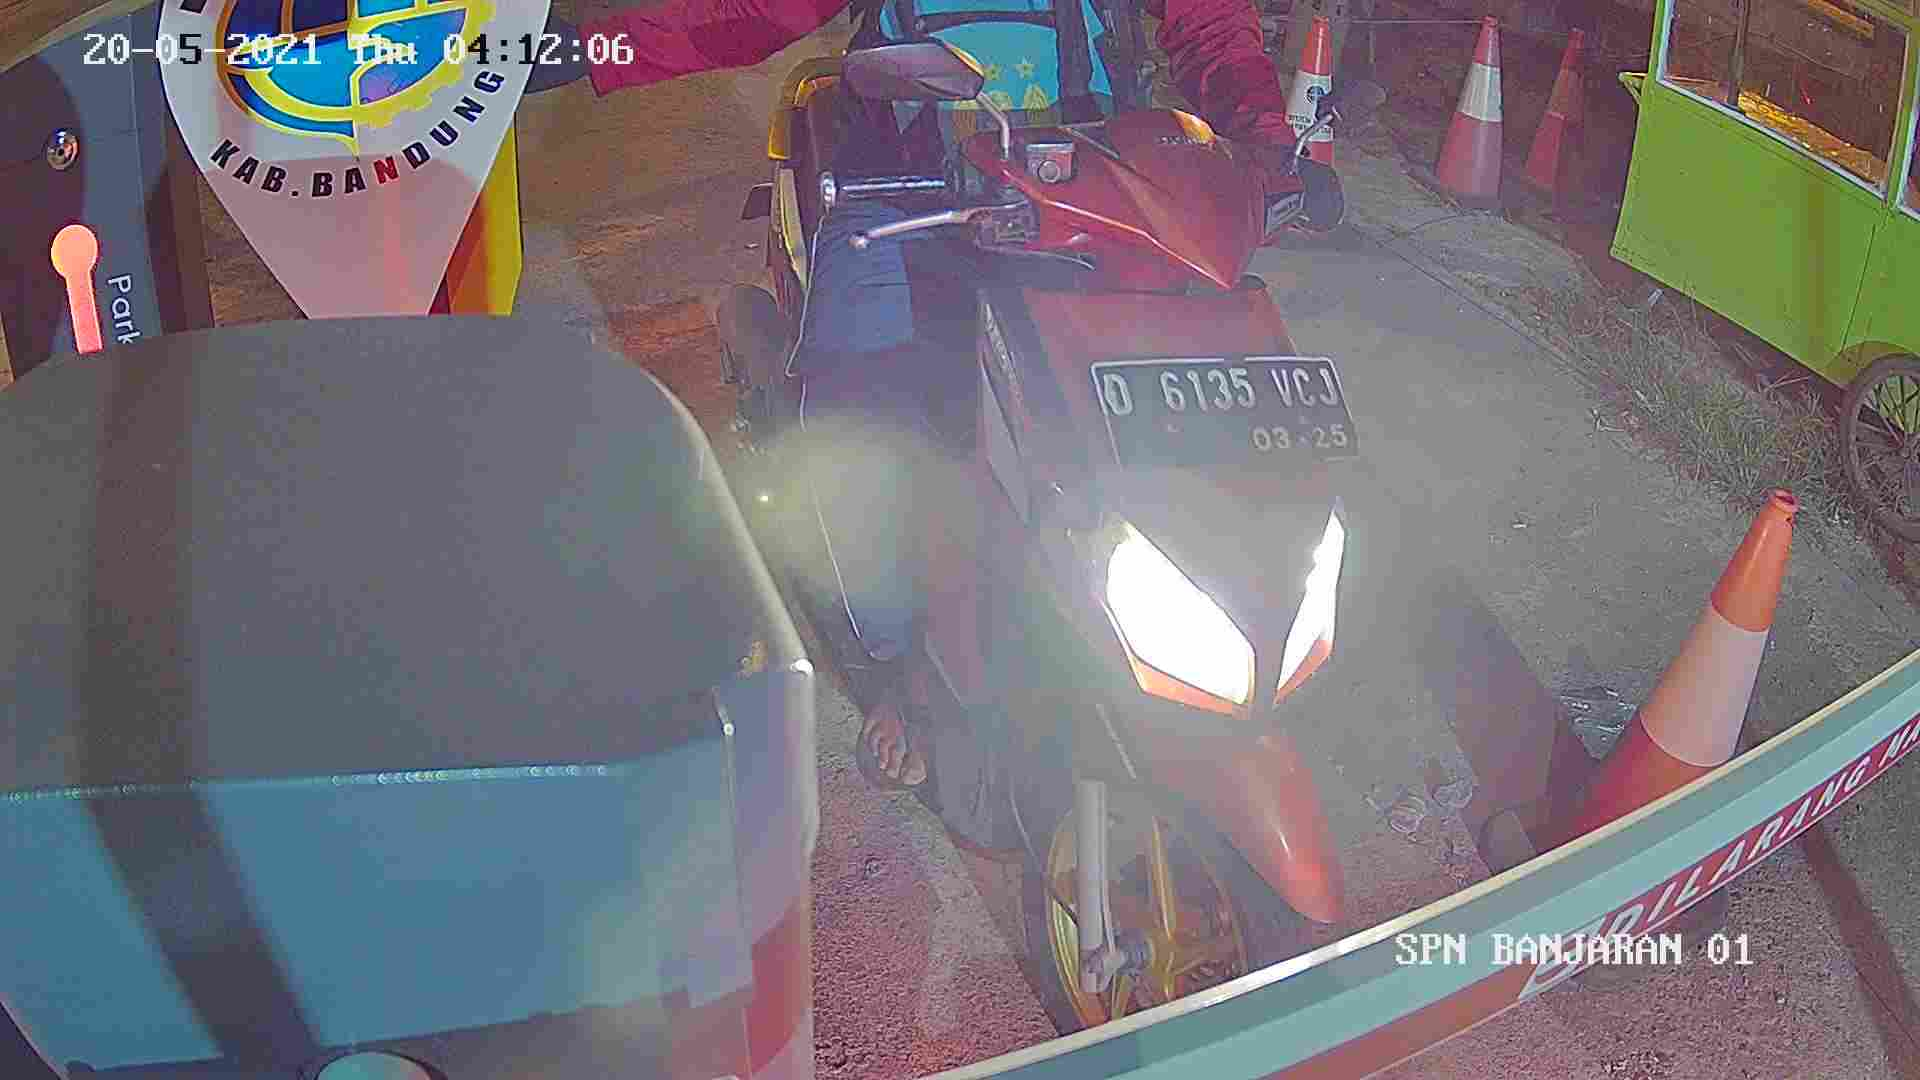motor: (843, 103, 1410, 982)
